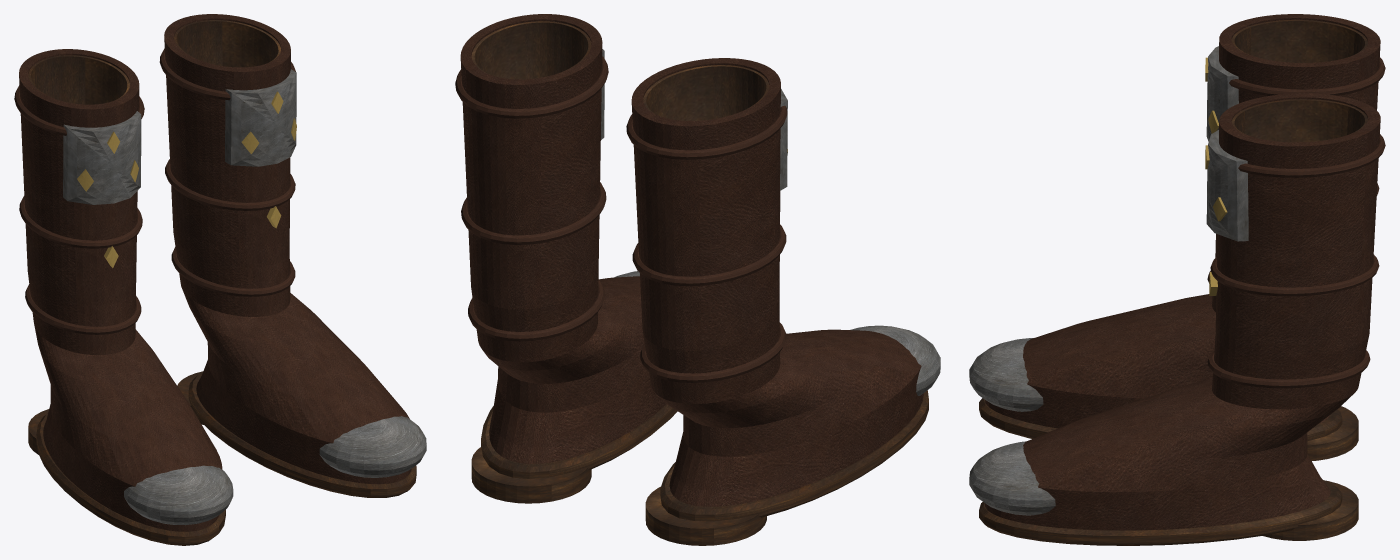
Rendered from medium.obj.
3 renders of one model, left to right at view 1: azimuth 30°, elevation 25°; view 2: azimuth 150°, elevation 25°; view 3: azimuth 270°, elevation 25°, orthographic. The views are drawn at different scales.
Parts seen in each view (by area): view 1: right_upper, left_upper, left_shin_plate, right_shin_plate, left_toe_cap, right_toe_cap, left_lining, right_lining, right_sole, left_sole, right_band1, left_band1 (+4 smaller); view 2: left_upper, right_upper, right_lining, left_lining, left_sole, right_sole, right_heel, left_heel, left_band2, right_band2, left_band1, left_toe_cap (+4 smaller); view 3: right_upper, left_upper, right_sole, right_lining, left_lining, right_toe_cap, left_toe_cap, right_shin_plate, right_heel, right_band1, right_band0, left_sole (+4 smaller).
Part boxes in pixels (box(x1,y1,x2,y2)): right_upper: box(164, 14, 411, 484); left_upper: box(19, 49, 222, 531); left_shin_plate: box(63, 111, 141, 204); right_shin_plate: box(225, 69, 296, 166); left_toe_cap: box(124, 465, 233, 525); right_toe_cap: box(319, 416, 426, 477); left_lining: box(28, 55, 129, 104); right_lining: box(174, 20, 280, 67); right_sole: box(188, 373, 416, 497); left_sole: box(36, 413, 225, 545); right_band1: box(165, 159, 295, 210); left_band1: box(19, 196, 142, 248); left_upper: box(631, 58, 923, 506); right_upper: box(460, 14, 665, 463); right_lining: box(471, 21, 591, 79); left_lining: box(643, 65, 769, 120); left_sole: box(660, 390, 928, 521); right_sole: box(481, 404, 677, 478); right_heel: box(471, 447, 591, 503); left_heel: box(645, 486, 766, 545); left_band2: box(626, 105, 787, 159); right_band2: box(455, 56, 608, 118); left_band1: box(632, 224, 786, 286); left_toe_cap: box(850, 325, 940, 395); right_upper: box(985, 93, 1380, 530); left_upper: box(985, 14, 1380, 428); right_sole: box(979, 480, 1342, 545); right_lining: box(1231, 99, 1367, 142); left_lining: box(1231, 19, 1367, 62); right_toe_cap: box(969, 441, 1055, 515); left_toe_cap: box(969, 338, 1043, 411); right_shin_plate: box(1206, 130, 1248, 241); right_heel: box(1263, 480, 1358, 540); right_band1: box(1210, 254, 1379, 296); right_band0: box(1207, 350, 1370, 388); left_sole: box(979, 398, 1342, 441).
Size of the model in its own units: 95.36 by 111 by 105.
Materials: 4 (4 with a texture image).
